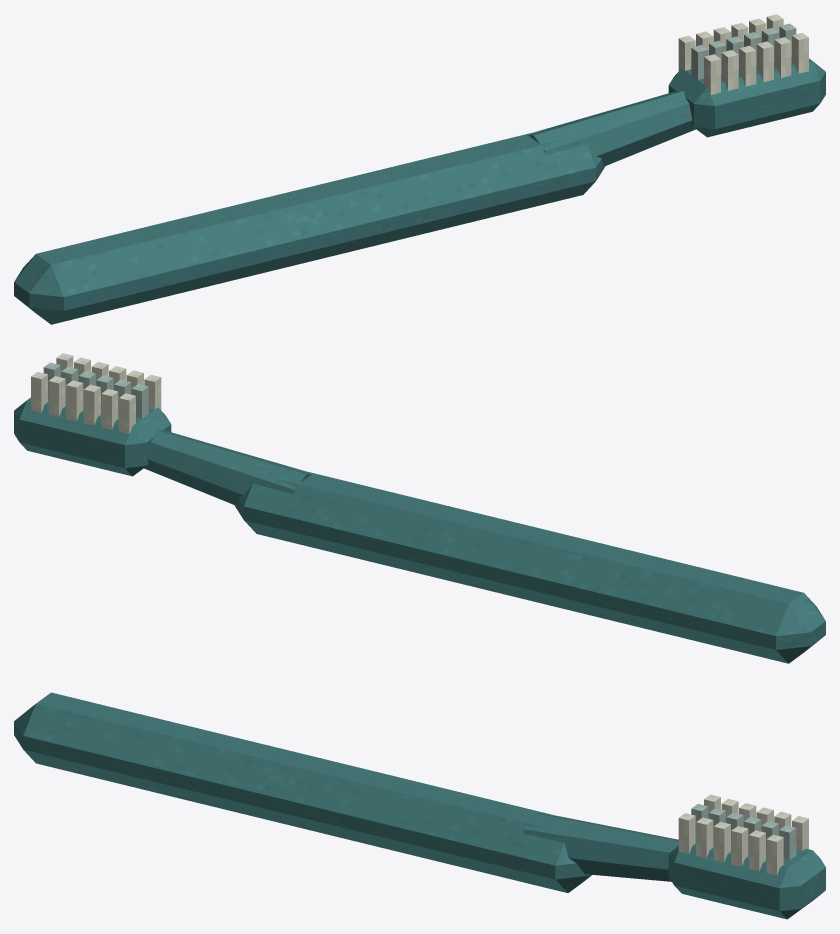
File: toothbrush_plain.glb
3 renders of one model, top to bottom at view 1: azimuth 30°, elevation 25°; view 2: azimuth 150°, elevation 25°; view 3: azimuth 330°, elevation 25°, orthographic.
Parts seen in each view (by area): view 1: block_curved plastic handle, block_brush head, block_raised neck, block_bristle tuft 0.07100000000000001 0.005, block_bristle tuft 0.07900000000000001 0.005, block_bristle tuft 0.067 0.005, block_bristle tuft 0.07500000000000001 0.005, block_bristle tuft 0.08300000000000002 0.005, block_bristle tuft 0.063 0.005; view 2: block_curved plastic handle, block_brush head, block_raised neck, block_bristle tuft 0.07100000000000001 -0.005, block_bristle tuft 0.07900000000000001 -0.005, block_bristle tuft 0.067 -0.005, block_bristle tuft 0.07500000000000001 -0.005, block_bristle tuft 0.08300000000000002 -0.005, block_bristle tuft 0.063 -0.005; view 3: block_curved plastic handle, block_brush head, block_raised neck, block_bristle tuft 0.07100000000000001 0.005, block_bristle tuft 0.063 0.005, block_bristle tuft 0.08300000000000002 0.005, block_bristle tuft 0.067 0.005, block_bristle tuft 0.07500000000000001 0.005, block_bristle tuft 0.07900000000000001 0.005, block_bristle tuft 0.08300000000000002 0, block_bristle tuft 0.08300000000000002 -0.005.
Part boxes in pixels (x1,y1,x2,y2): block_curved plastic handle: [14, 129, 605, 324]; block_brush head: [668, 57, 825, 137]; block_raised neck: [528, 91, 695, 166]; block_bristle tuft 0.07100000000000001 0.005: [739, 45, 756, 86]; block_bristle tuft 0.07900000000000001 0.005: [774, 37, 791, 77]; block_bristle tuft 0.067 0.005: [721, 50, 738, 90]; block_bristle tuft 0.07500000000000001 0.005: [756, 41, 773, 82]; block_bristle tuft 0.08300000000000002 0.005: [792, 33, 808, 73]; block_bristle tuft 0.063 0.005: [704, 54, 720, 94]; block_curved plastic handle: [234, 468, 825, 663]; block_brush head: [14, 396, 171, 476]; block_raised neck: [144, 430, 311, 505]; block_bristle tuft 0.07100000000000001 -0.005: [83, 384, 100, 425]; block_bristle tuft 0.07900000000000001 -0.005: [48, 376, 65, 416]; block_bristle tuft 0.067 -0.005: [101, 389, 118, 429]; block_bristle tuft 0.07500000000000001 -0.005: [66, 380, 83, 421]; block_bristle tuft 0.08300000000000002 -0.005: [31, 372, 47, 412]; block_bristle tuft 0.063 -0.005: [119, 393, 135, 433]; block_curved plastic handle: [14, 692, 592, 892]; block_brush head: [668, 837, 825, 919]; block_raised neck: [523, 813, 678, 881]; block_bristle tuft 0.07100000000000001 0.005: [713, 821, 730, 862]; block_bristle tuft 0.063 0.005: [678, 813, 695, 853]; block_bristle tuft 0.08300000000000002 0.005: [766, 834, 783, 875]; block_bristle tuft 0.067 0.005: [696, 817, 713, 858]; block_bristle tuft 0.07500000000000001 0.005: [731, 826, 748, 866]; block_bristle tuft 0.07900000000000001 0.005: [749, 830, 765, 871]; block_bristle tuft 0.08300000000000002 0: [779, 825, 796, 860]; block_bristle tuft 0.08300000000000002 -0.005: [792, 816, 808, 850].
Size of the model in its own units: 0.18 by 0.024 by 0.016.
Materials: 1 (1 with a texture image).
